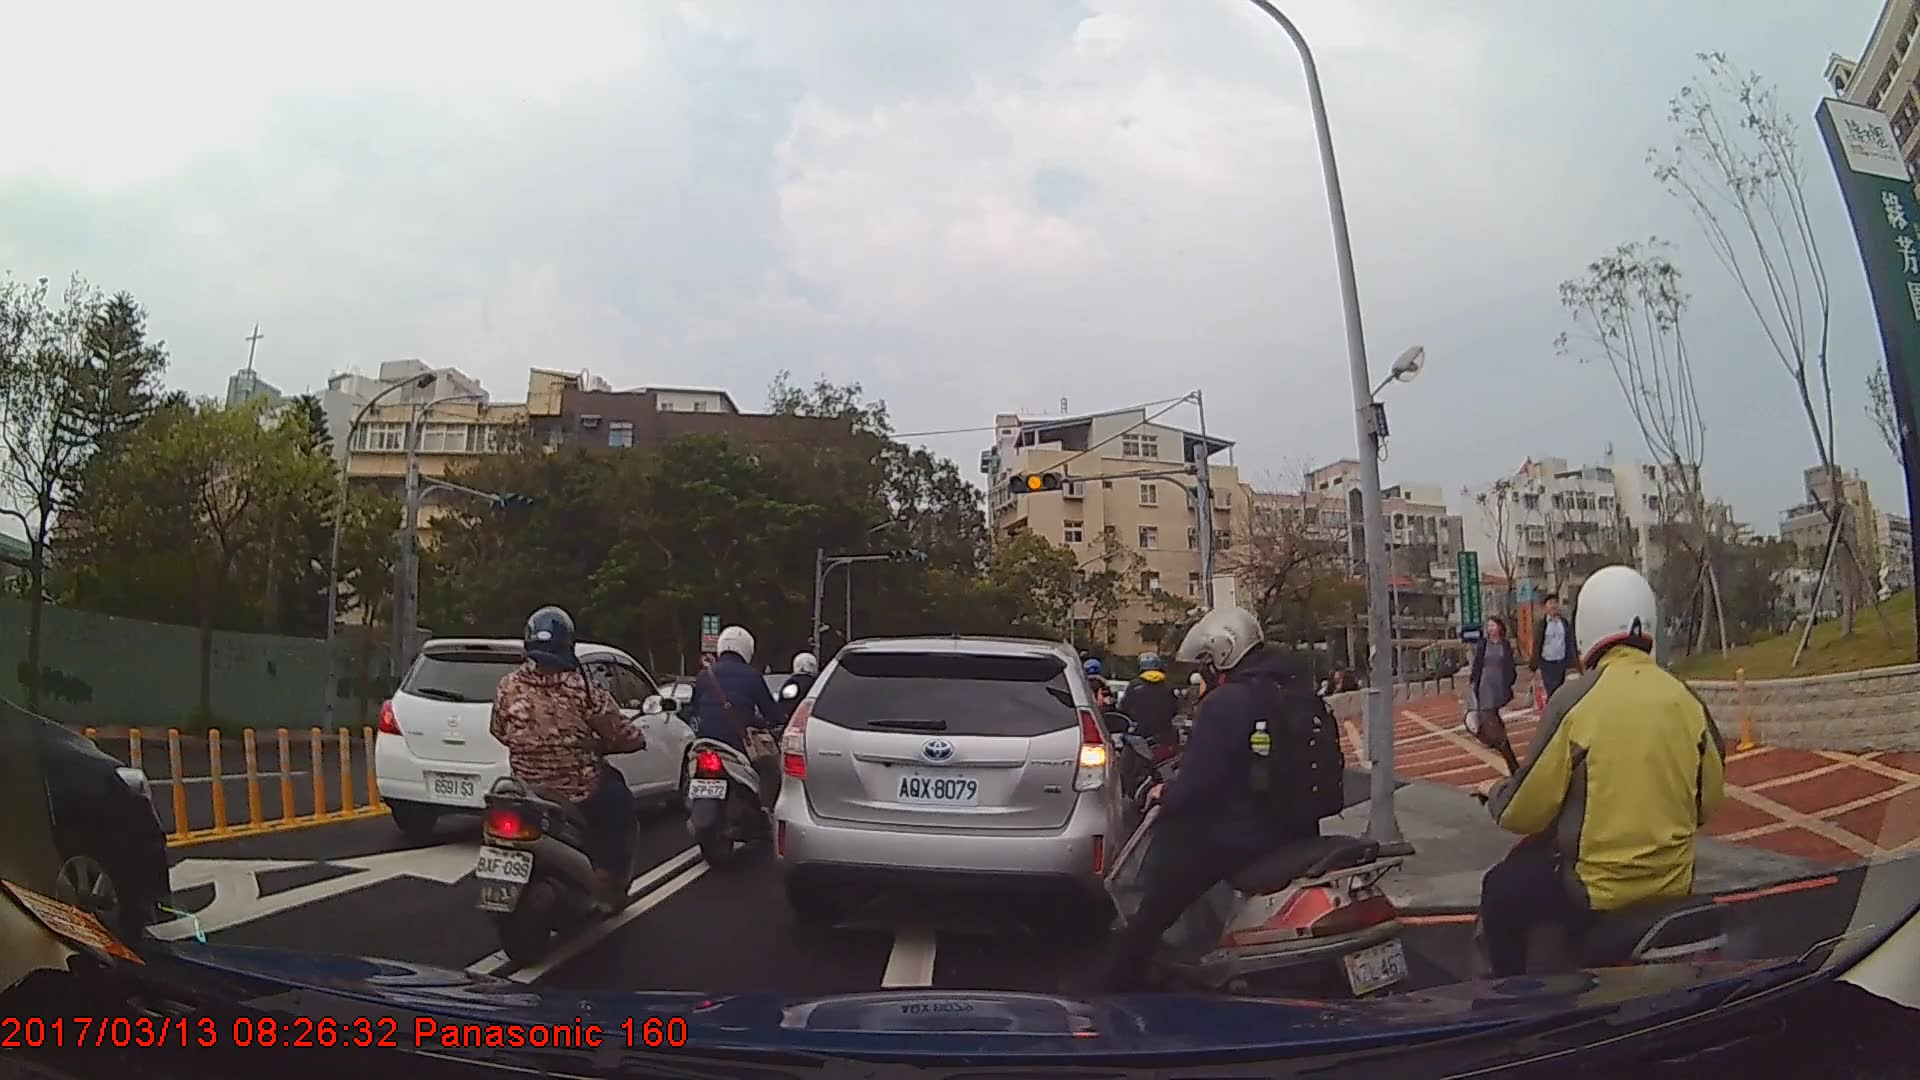pedestrian: (1536, 592, 1587, 745), (1467, 616, 1519, 753)
rider: (1471, 560, 1742, 1058), (1095, 602, 1419, 1014), (472, 604, 648, 964), (683, 623, 799, 867), (1111, 649, 1190, 830), (773, 653, 831, 811)
vehicle: (770, 633, 1120, 936), (372, 638, 699, 847), (0, 688, 171, 959)
